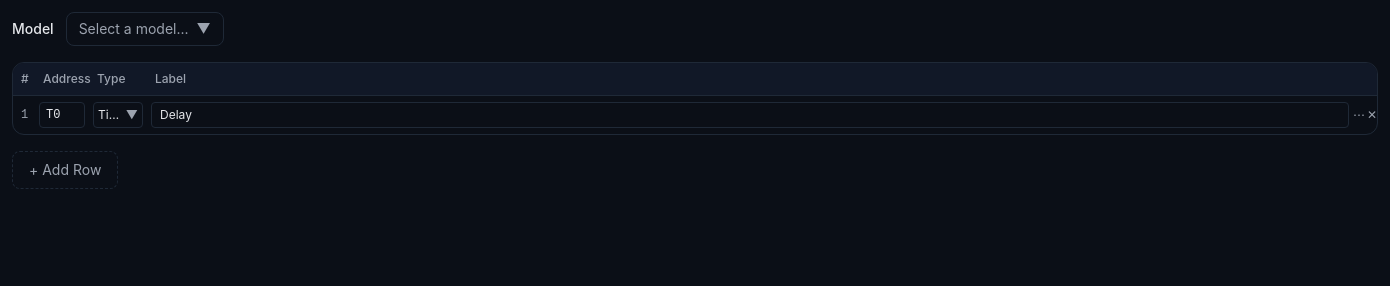
Test: M3 — Preset validation UI (Timer/Counter K-constant) › shows preset error for Timer with bare number 50
Click the button with test id "io-more-0" at (1359, 115), box x1=1353 y1=103 x2=1365 y2=127
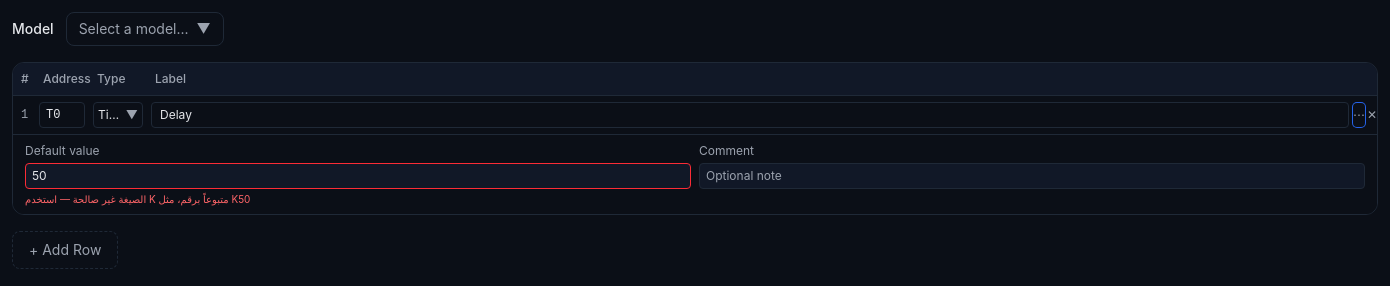
Result: the field with test id "io-default-0" is shown at x1=25 y1=163 x2=691 y2=189
Result: the text with test id "io-default-0-error" shows "K" at x1=25 y1=193 x2=250 y2=205
